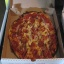pizza: (12, 12, 59, 58)
